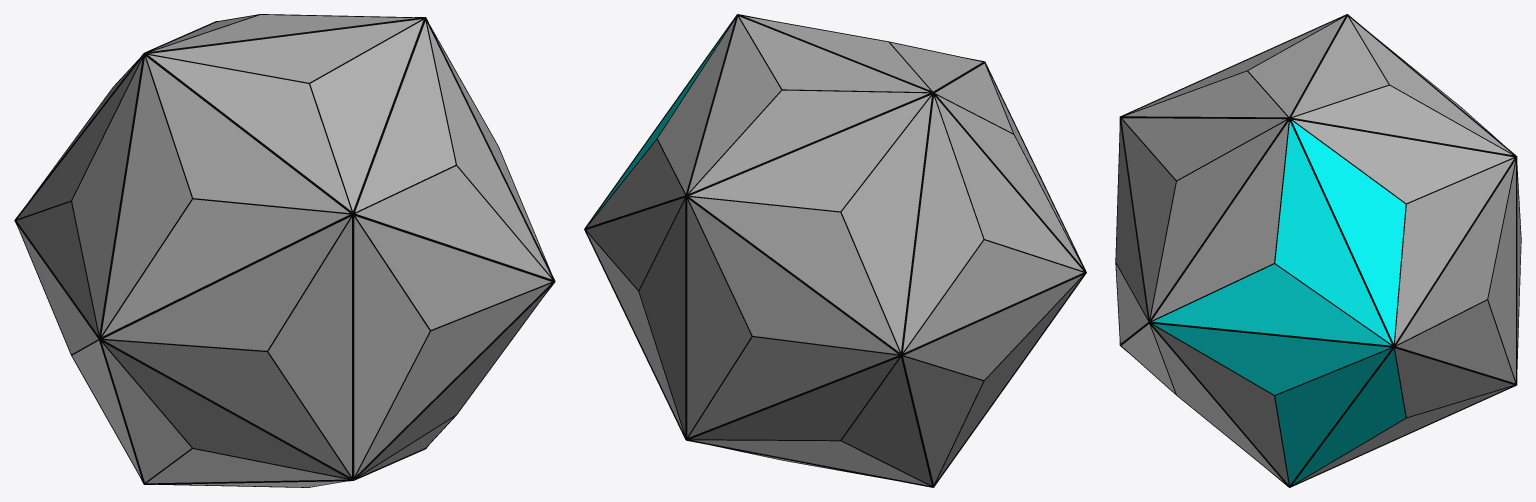
The model's file is TriakisIcosahedron6_2.glb.
3 renders of one model, left to right at view 1: azimuth 30°, elevation 25°; view 2: azimuth 150°, elevation 25°; view 3: azimuth 270°, elevation 25°, orthographic. The views are drawn at different scales.
Bounding box in the file's own units: 6.56 × 5.88 × 5.85.
